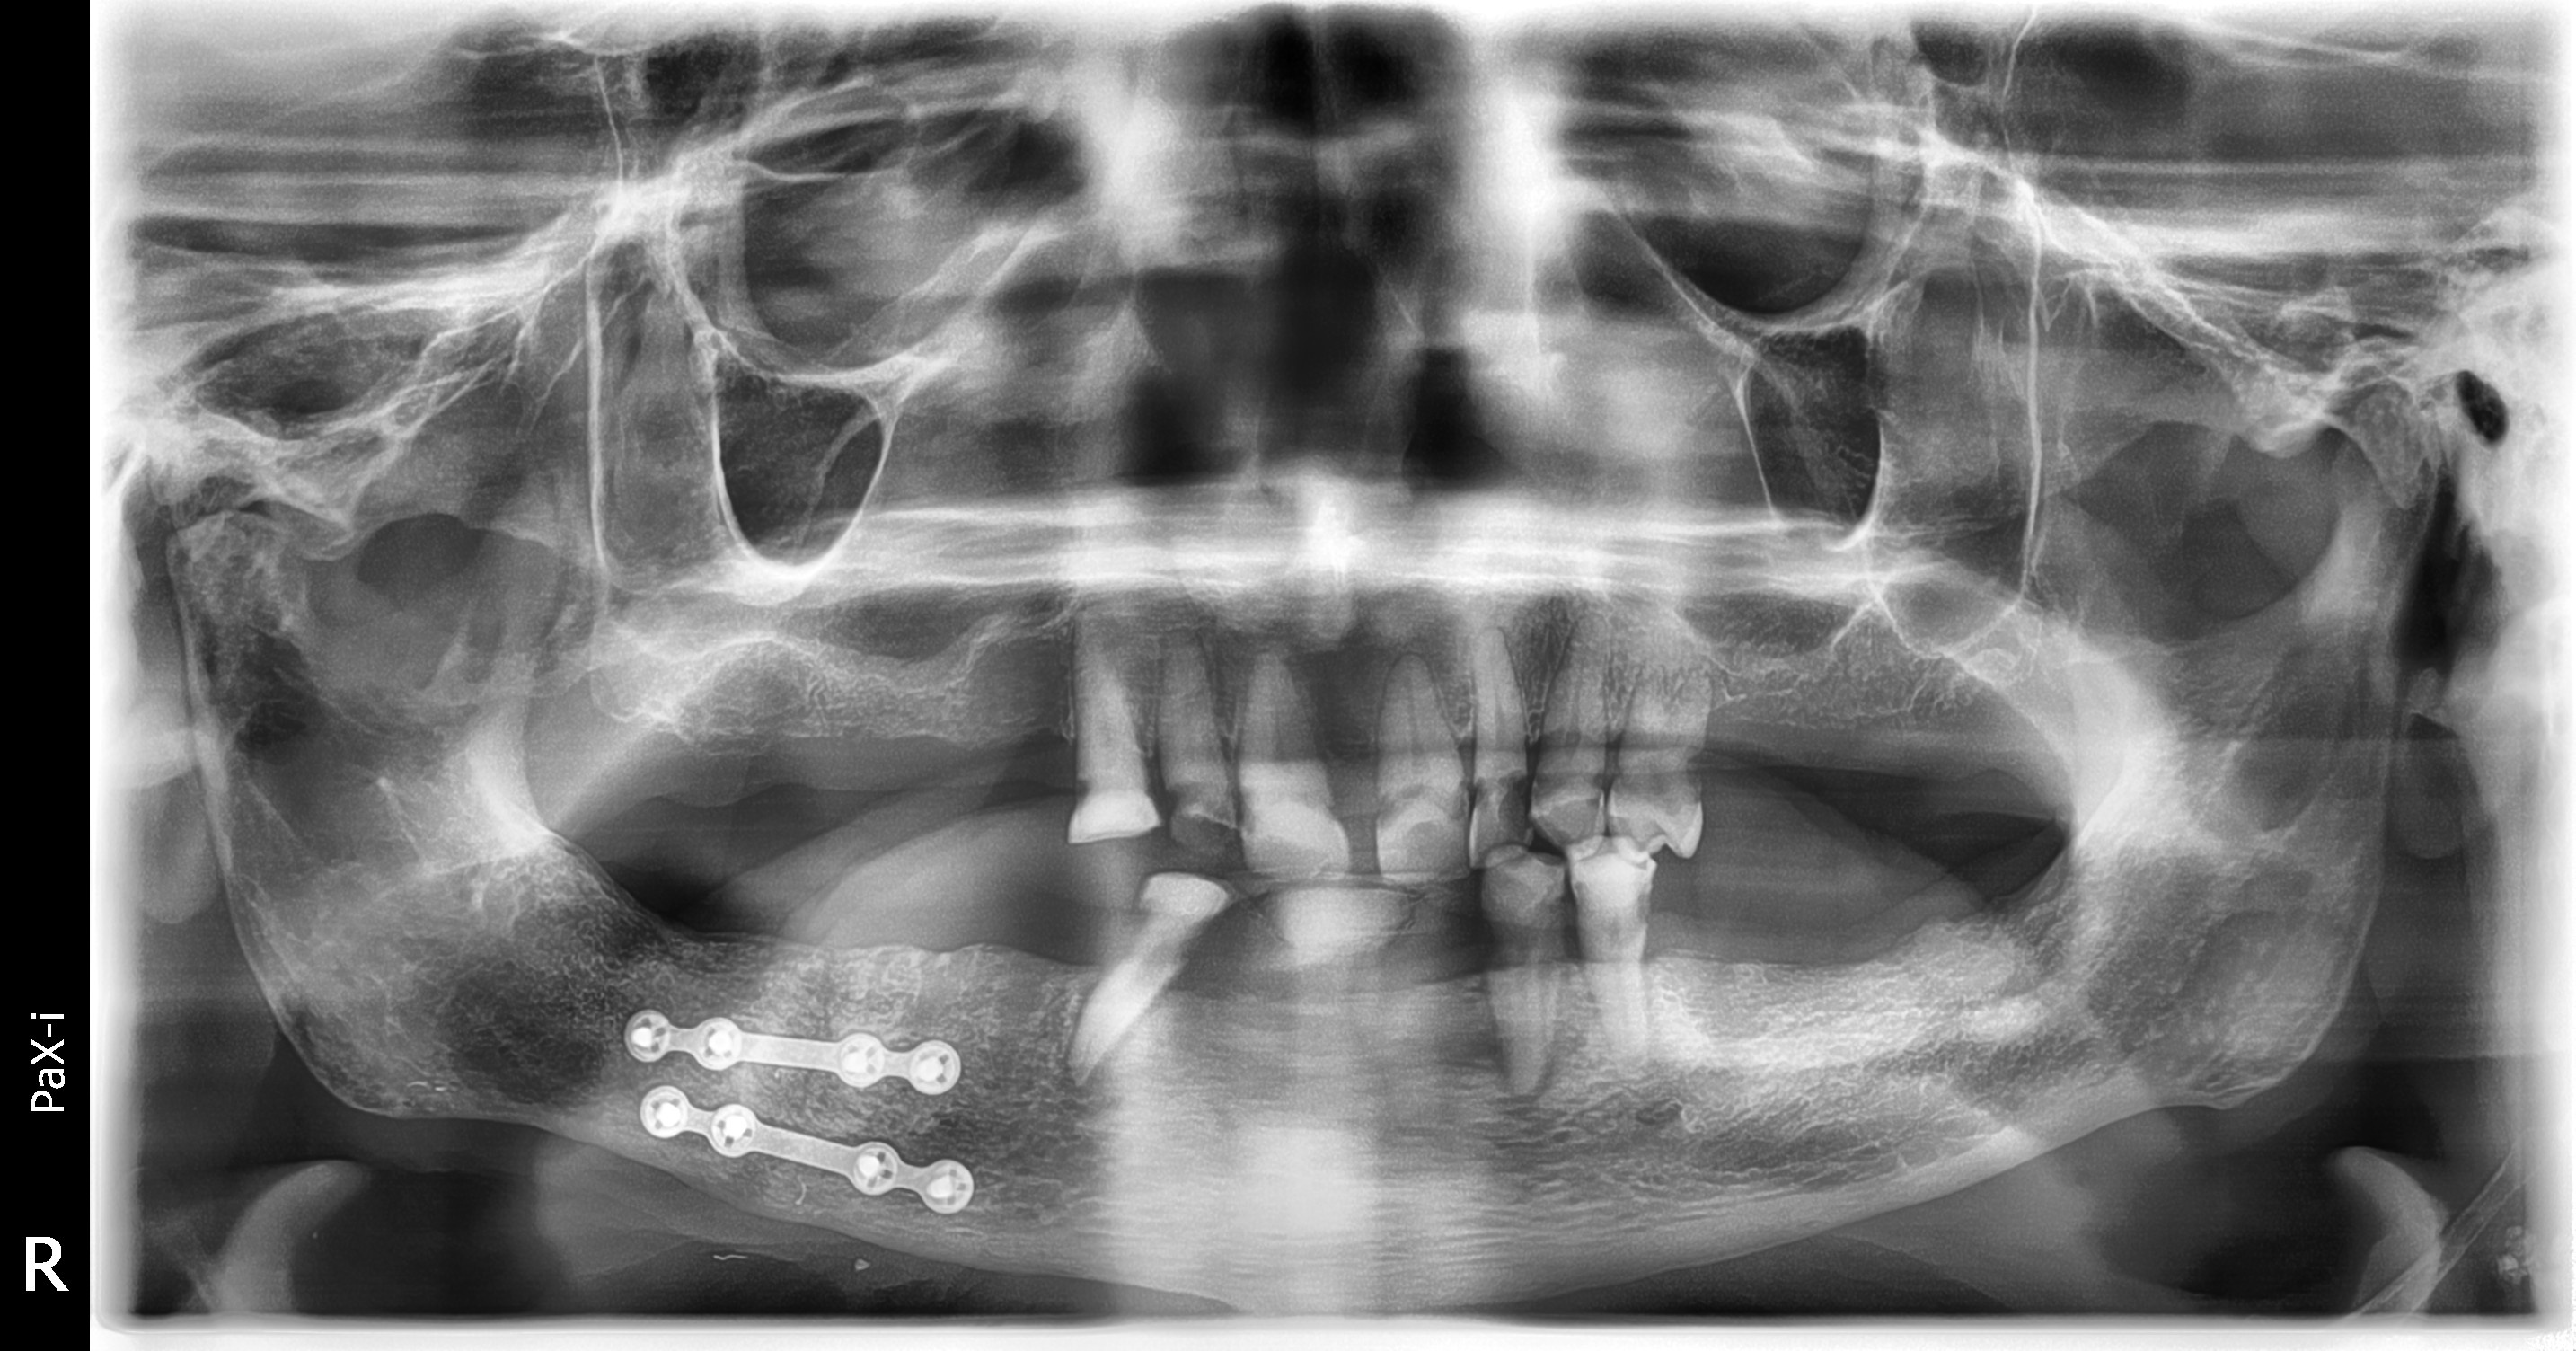BON: (1046, 913, 1126, 966), (1169, 932, 1215, 988), (1465, 917, 1503, 978), (1440, 733, 1487, 779), (1332, 758, 1380, 802), (1644, 910, 1683, 959), (1559, 922, 1591, 964), (1051, 741, 1084, 779), (1521, 741, 1549, 775), (1598, 744, 1622, 773), (1145, 755, 1164, 785)
CAR: (1380, 780, 1467, 826), (1123, 905, 1157, 954), (1501, 775, 1535, 814), (1683, 758, 1705, 799)
SRD: (624, 1090, 975, 1208), (618, 1003, 983, 1099)
